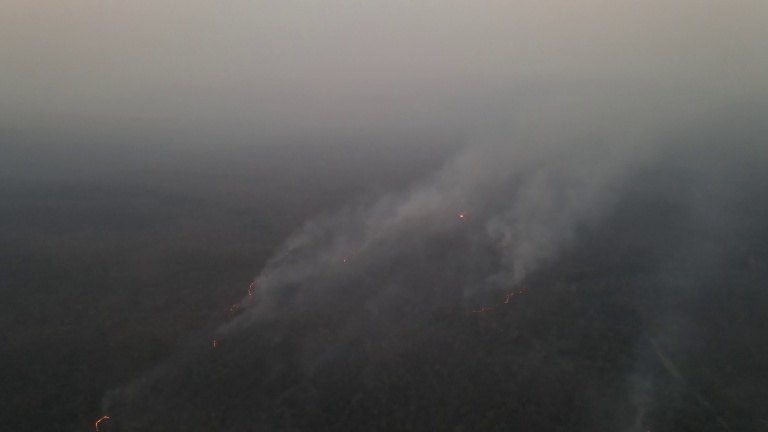fire: (467, 282, 529, 320), (225, 277, 260, 321), (339, 247, 362, 264), (92, 412, 108, 430), (210, 337, 219, 352), (455, 210, 466, 221)
smoke: (223, 117, 606, 336), (618, 318, 679, 417), (102, 366, 152, 418)
